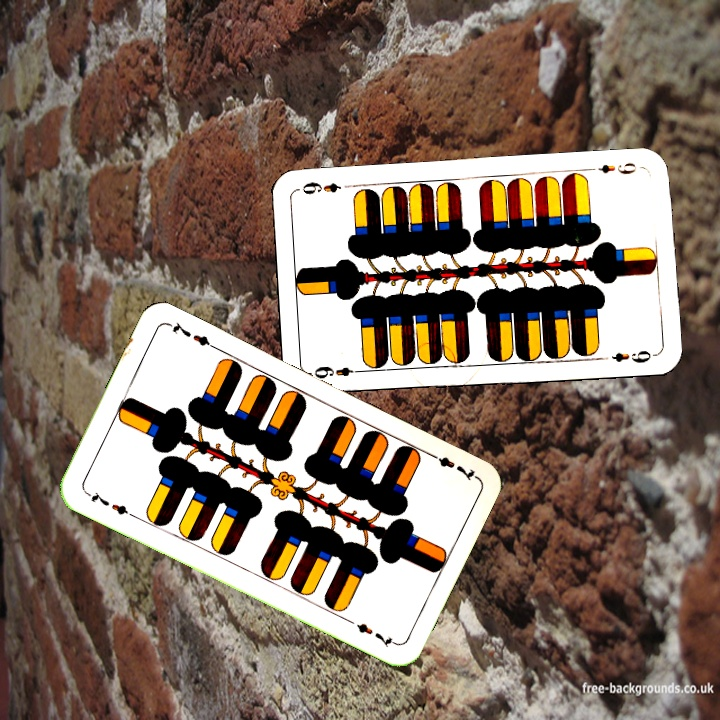E7: (423, 448, 479, 484), (81, 487, 137, 520)
E9: (310, 361, 366, 382), (586, 158, 645, 177)
